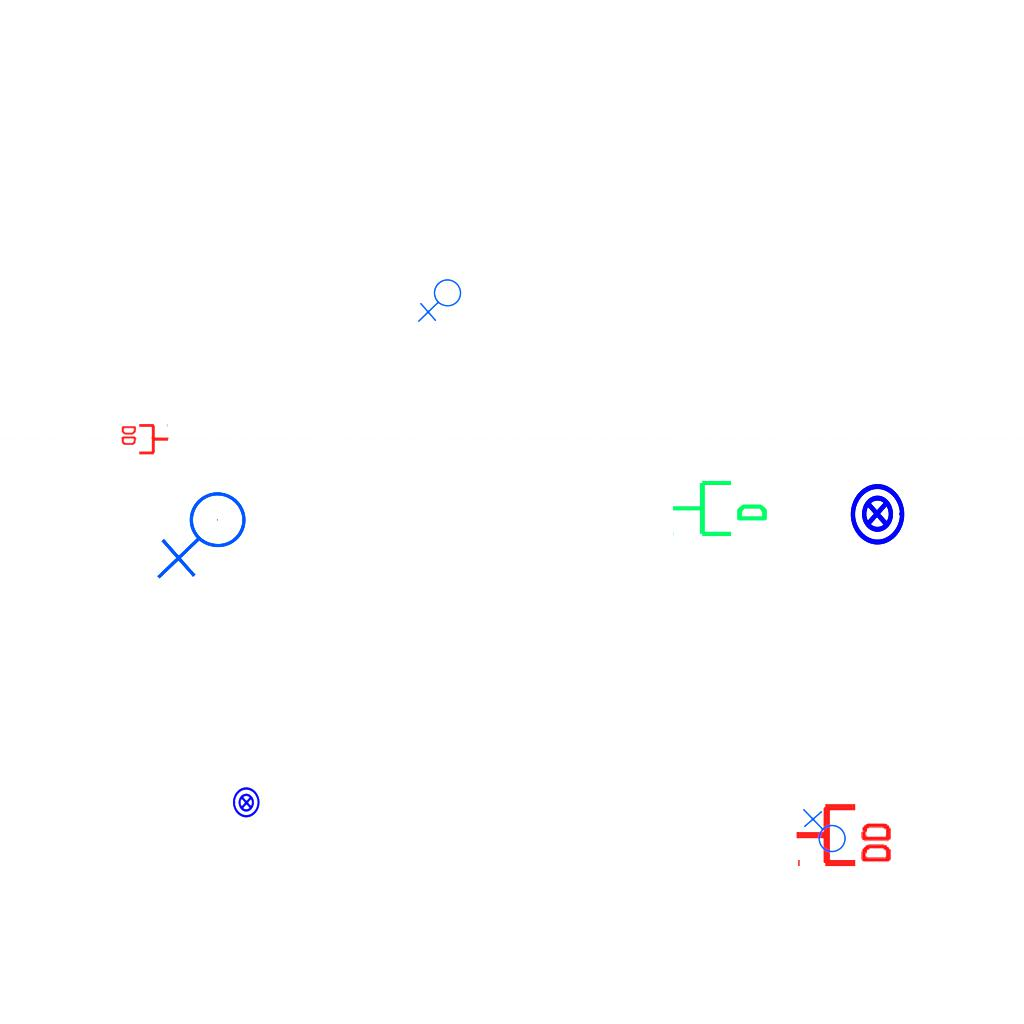Datenanschluss_einfach: (670, 472, 770, 541)
Datenanschluss_zweifach: (793, 799, 896, 868), (119, 423, 170, 457)
Elektroanschluss_allgemein_230V_Geraeteanschlussdose_230V: (156, 490, 255, 584), (417, 278, 466, 325), (800, 808, 847, 857)
Taster_beleuchtet: (844, 481, 910, 547), (230, 786, 263, 819)
